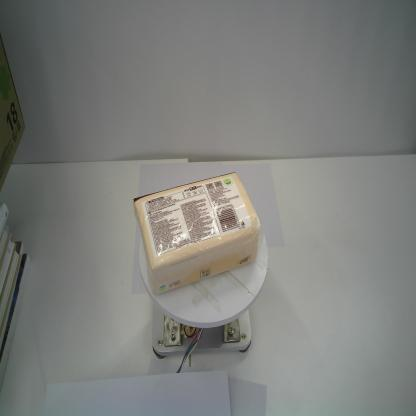Tissue: (132, 170, 262, 296)
